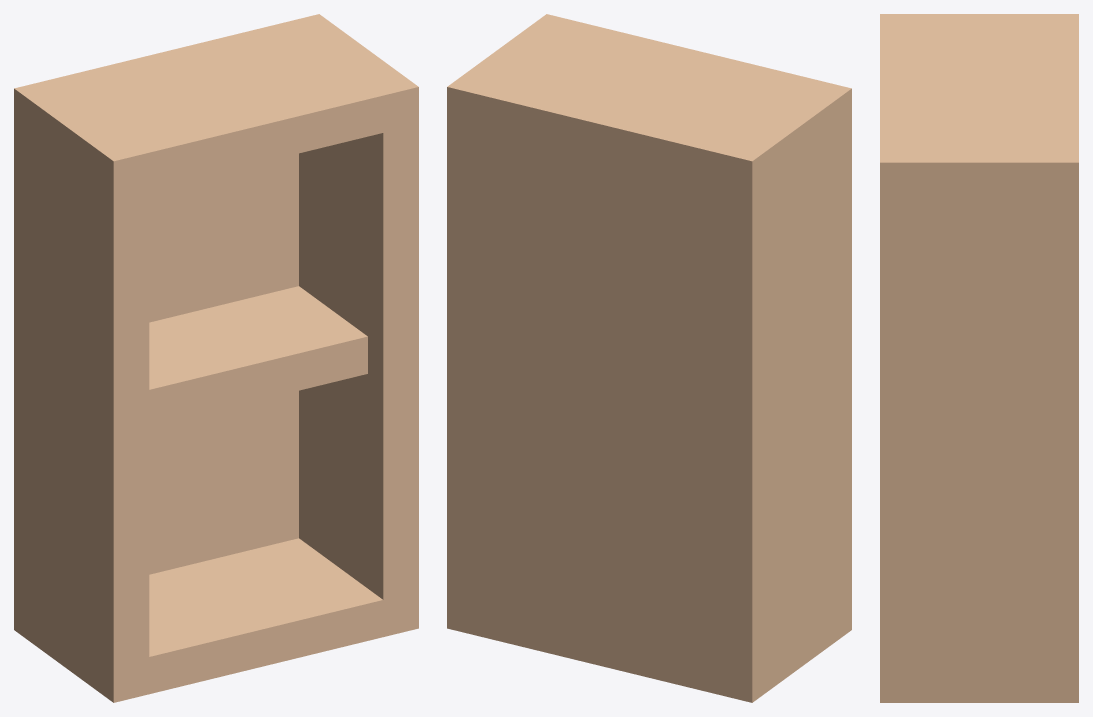
The model's file is Bathroom_CabinetBody.glb.
The picture shows the model from 3 angles, left to right: view 1: azimuth 30°, elevation 25°; view 2: azimuth 150°, elevation 25°; view 3: azimuth 270°, elevation 25°; orthographic projection.
Parts seen in each view (by area): view 1: Bathroom_CabinetBody; view 2: Bathroom_CabinetBody; view 3: Bathroom_CabinetBody.
Part boxes in pixels (left/top/right/bottom): Bathroom_CabinetBody: left=14, top=14, right=418, bottom=702; Bathroom_CabinetBody: left=447, top=14, right=851, bottom=702; Bathroom_CabinetBody: left=880, top=14, right=1078, bottom=702.
Bounding box in the file's own units: 0.23 × 0.39 × 0.13.
